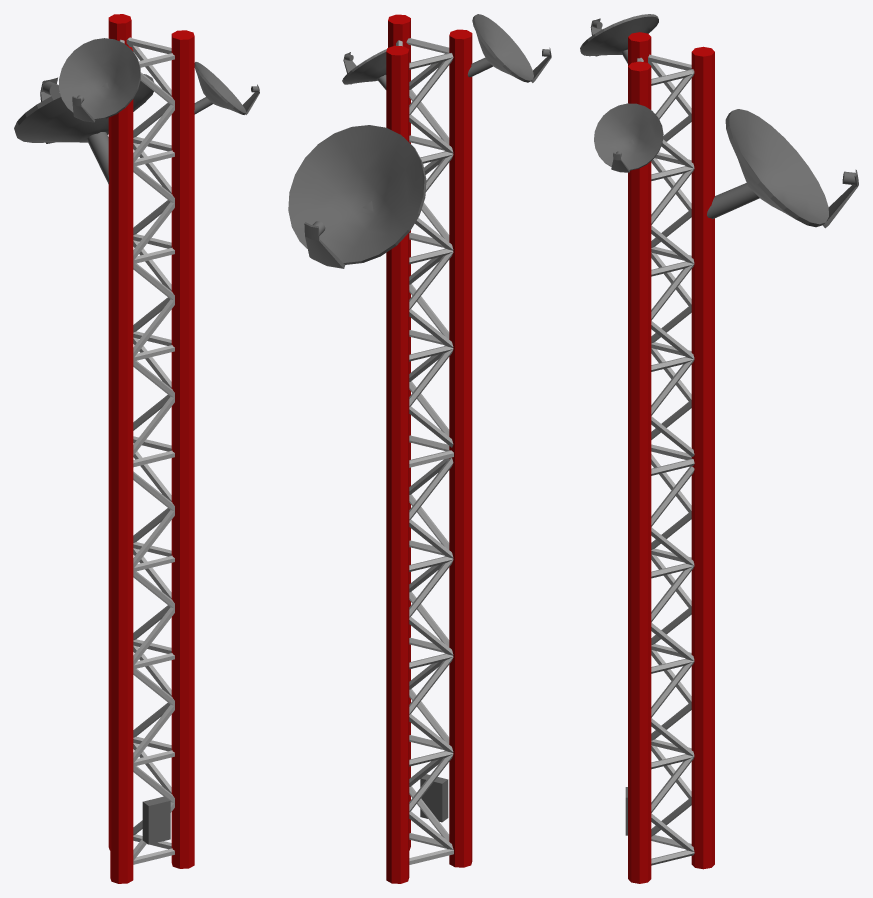
The model's file is RadioTower.fbx.
3 renders of one model, left to right at view 1: azimuth 30°, elevation 25°; view 2: azimuth 150°, elevation 25°; view 3: azimuth 270°, elevation 25°, orthographic. The views are drawn at different scales.
Parts seen in each view (by area): view 1: beams, supports, pCylinder15, pCylinder16, pCylinder17, box; view 2: beams, supports, pCylinder16, pCylinder15, pCylinder17, box; view 3: beams, supports, pCylinder16, pCylinder17, pCylinder15.
Boxes of the visible parts, bbox=[...] form: beams: bbox=[108, 14, 194, 883]; supports: bbox=[119, 37, 174, 864]; pCylinder15: bbox=[59, 38, 140, 122]; pCylinder16: bbox=[14, 74, 153, 184]; pCylinder17: bbox=[194, 62, 259, 114]; box: bbox=[142, 796, 170, 844]; beams: bbox=[386, 14, 472, 883]; supports: bbox=[396, 38, 453, 864]; pCylinder16: bbox=[288, 125, 426, 268]; pCylinder15: bbox=[467, 14, 551, 82]; pCylinder17: bbox=[342, 49, 386, 89]; box: bbox=[420, 774, 448, 822]; beams: bbox=[628, 32, 714, 883]; supports: bbox=[637, 54, 694, 865]; pCylinder16: bbox=[707, 109, 858, 228]; pCylinder17: bbox=[594, 103, 663, 172]; pCylinder15: bbox=[580, 14, 658, 63].
Bounding box in the file's own units: 2000 × 8203 × 2504.
